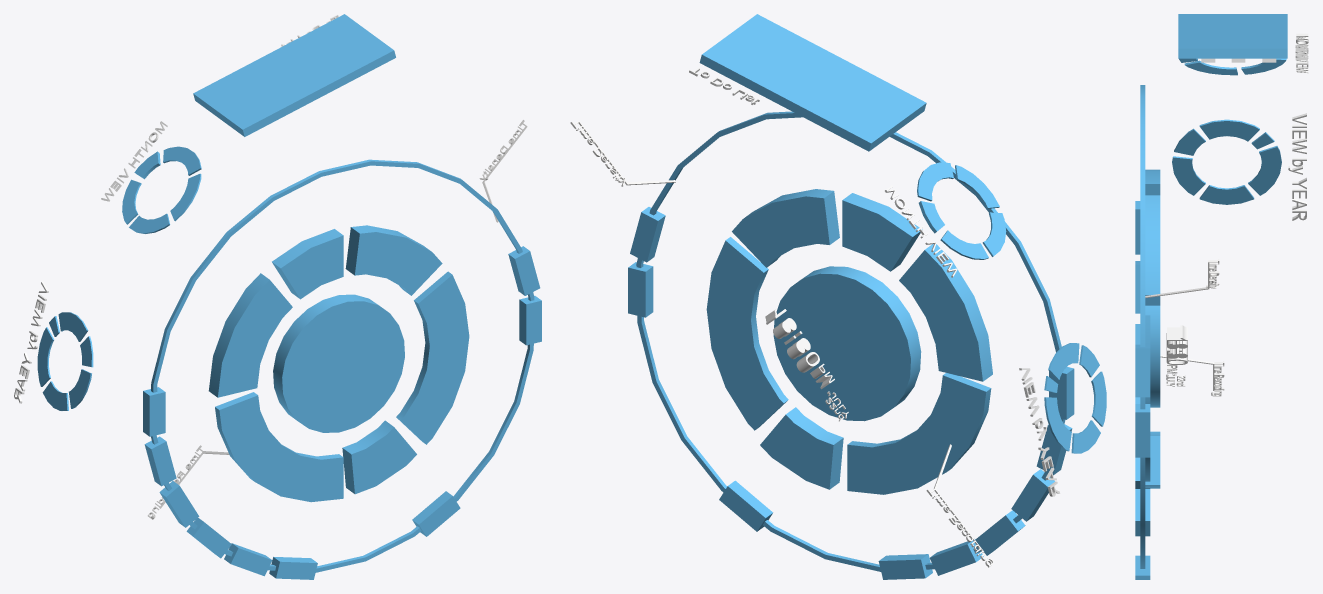
3 renders of one model, left to right at view 1: azimuth 30°, elevation 25°; view 2: azimuth 150°, elevation 25°; view 3: azimuth 270°, elevation 25°, orthographic. The views are drawn at different scales.
Visible parts, largest first — view 1: Group1; view 2: Group1; view 3: Group1.
Boxes of the visible parts, left/top/right/bottom form: Group1: left=14, top=14, right=541, bottom=579; Group1: left=570, top=14, right=1106, bottom=579; Group1: left=1135, top=14, right=1308, bottom=579.
Size of the model in its own units: 3847 by 3829 by 1111.
